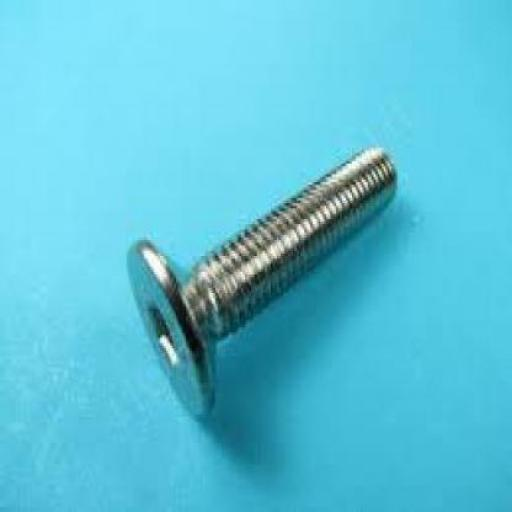Bolt: (126, 146, 399, 419)
